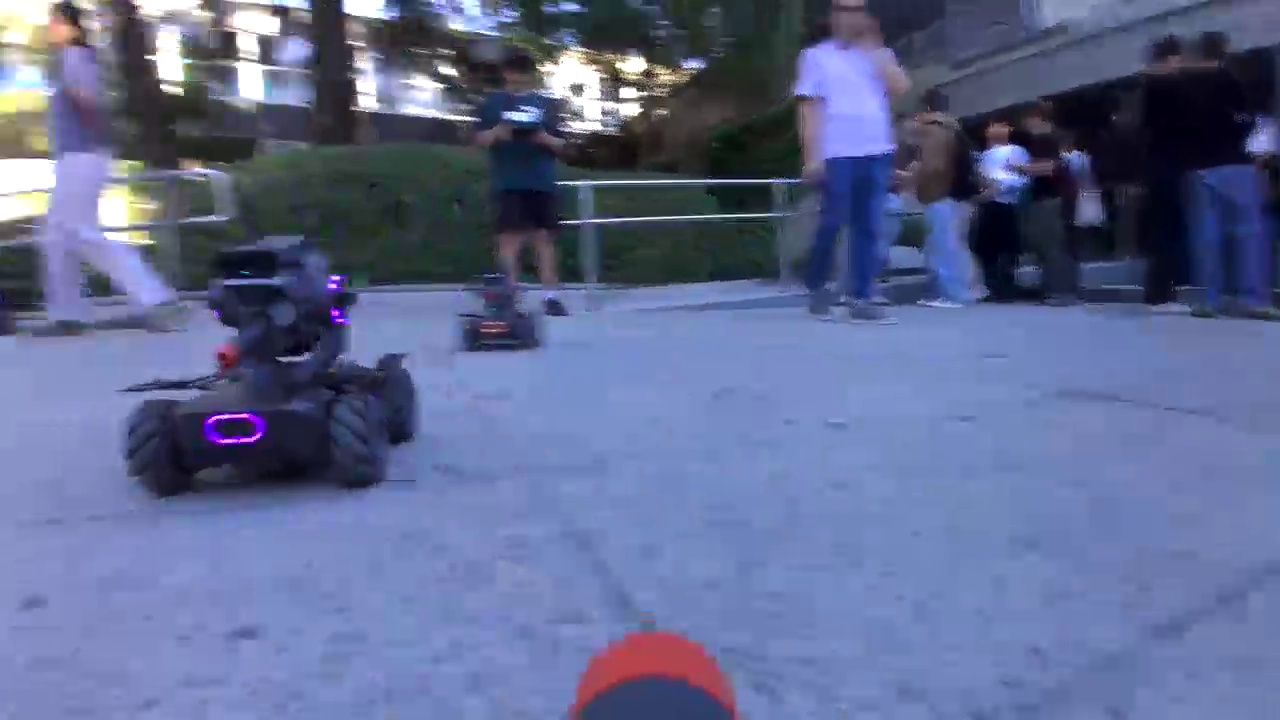robot: (120, 232, 419, 498), (460, 271, 541, 354)
